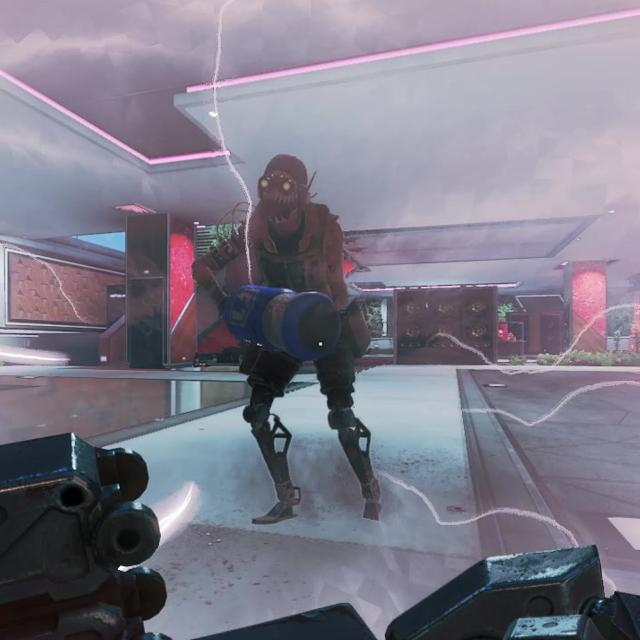avatar: (194, 155, 383, 526)
